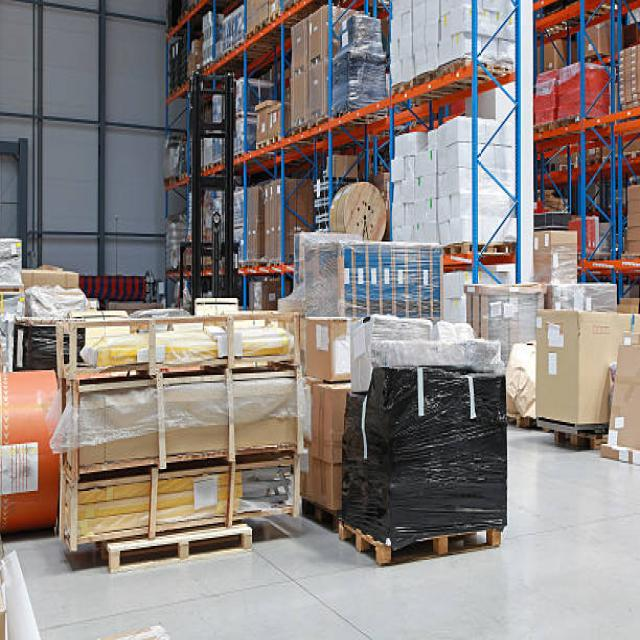Wooden-Pallets: (340, 523, 503, 572), (108, 523, 252, 572)
